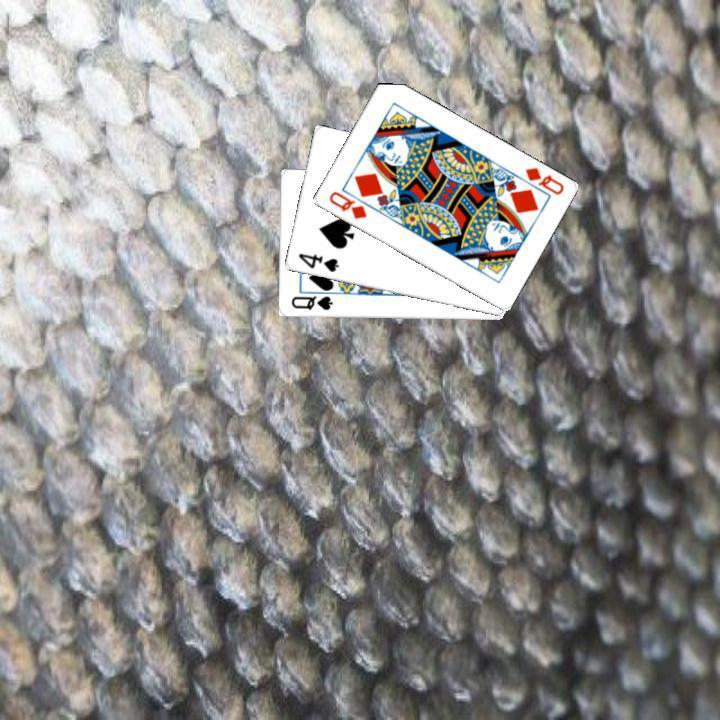4: (294, 249, 340, 274)
Q: (520, 163, 566, 197), (324, 187, 369, 221), (287, 292, 334, 313)
